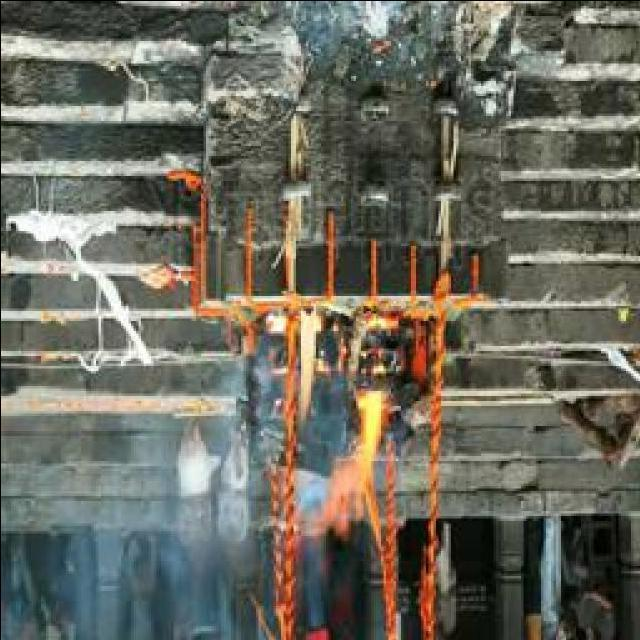Fire: (323, 385, 392, 538), (280, 310, 338, 424)
